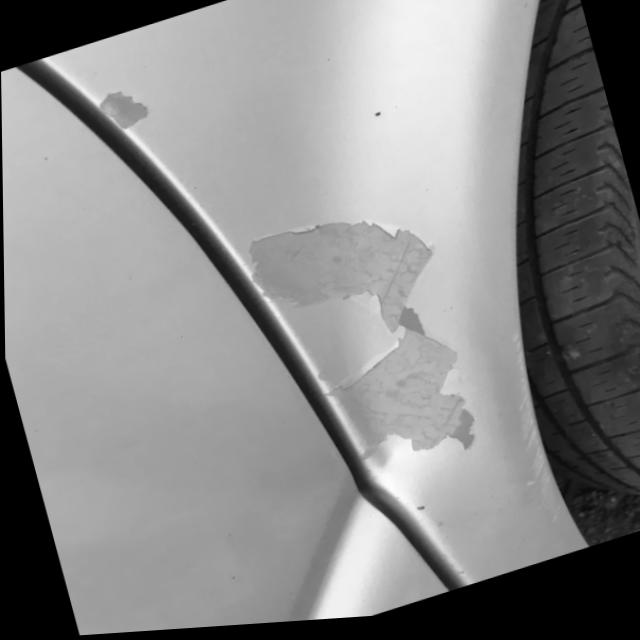Paint-fading: (220, 200, 491, 486), (94, 82, 155, 131)
